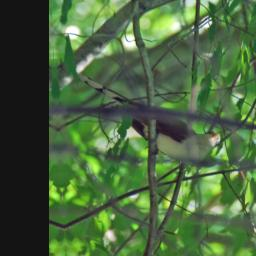Cuckoo: (74, 57, 224, 171)
